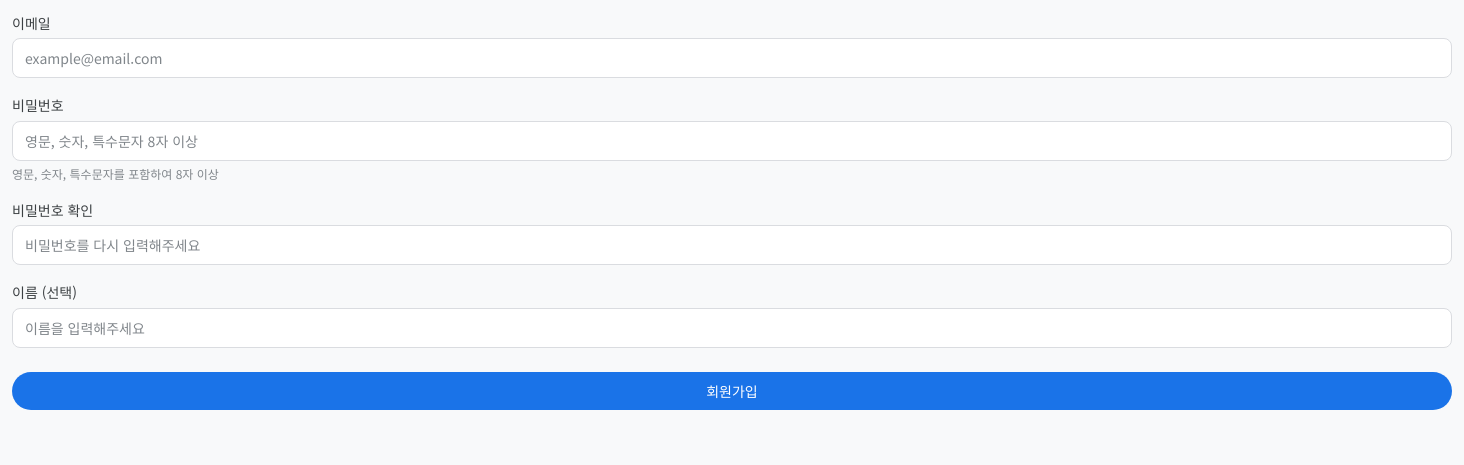
Test: RegisterForm › 중복 이메일 에러 시 폼 에러 메시지가 표시된다
In the field labelled "이메일": (732, 58) 12,38 -> 1452,78, type "dup@test.com"
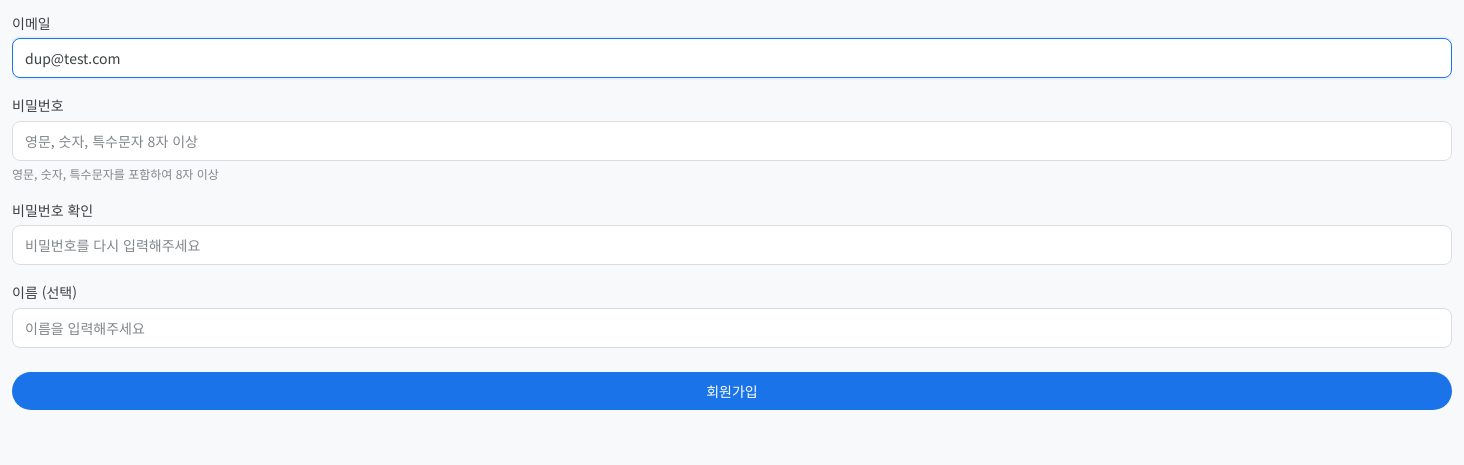
In the password field labelled "비밀번호": (732, 141) 12,121 -> 1452,161, type "Password1!"
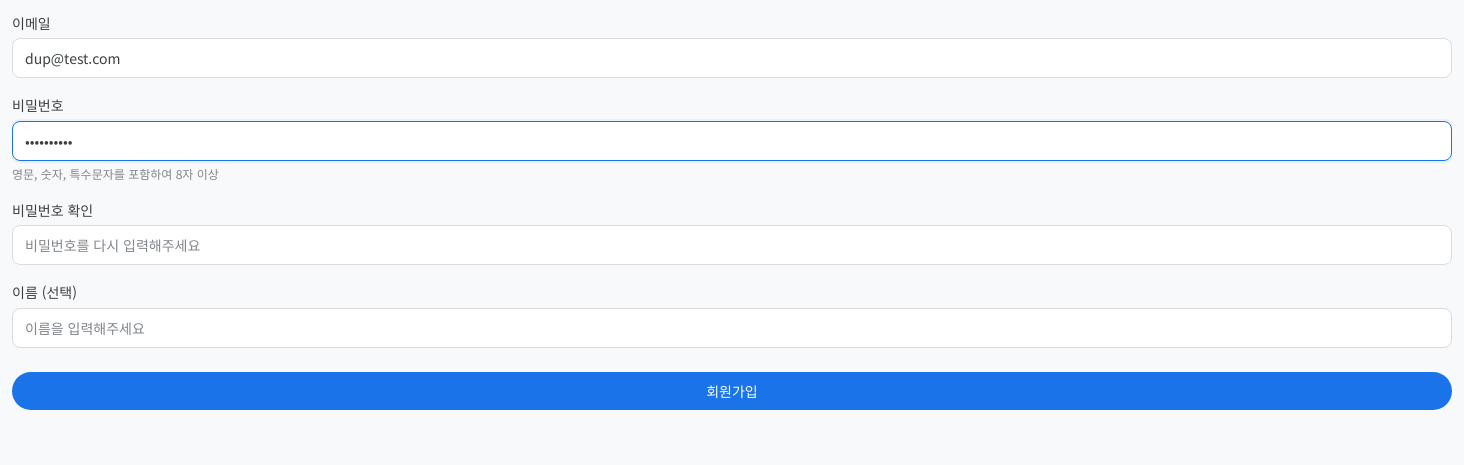
In the password field labelled "비밀번호 확인": (732, 245) 12,225 -> 1452,265, type "Password1!"
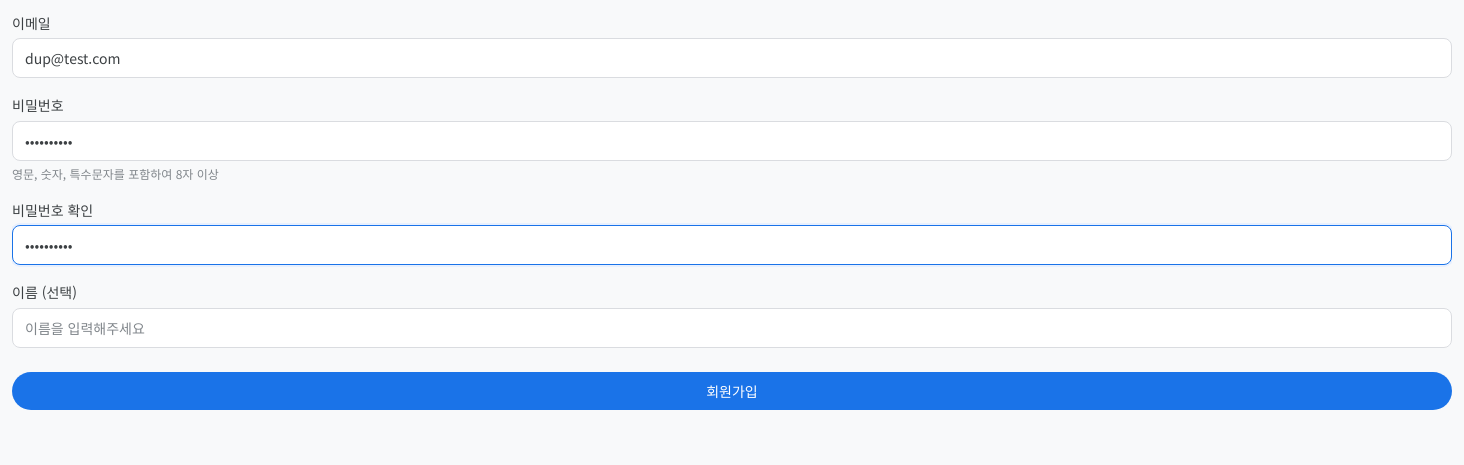
Click the button "회원가입": (732, 391) 12,372 -> 1452,410
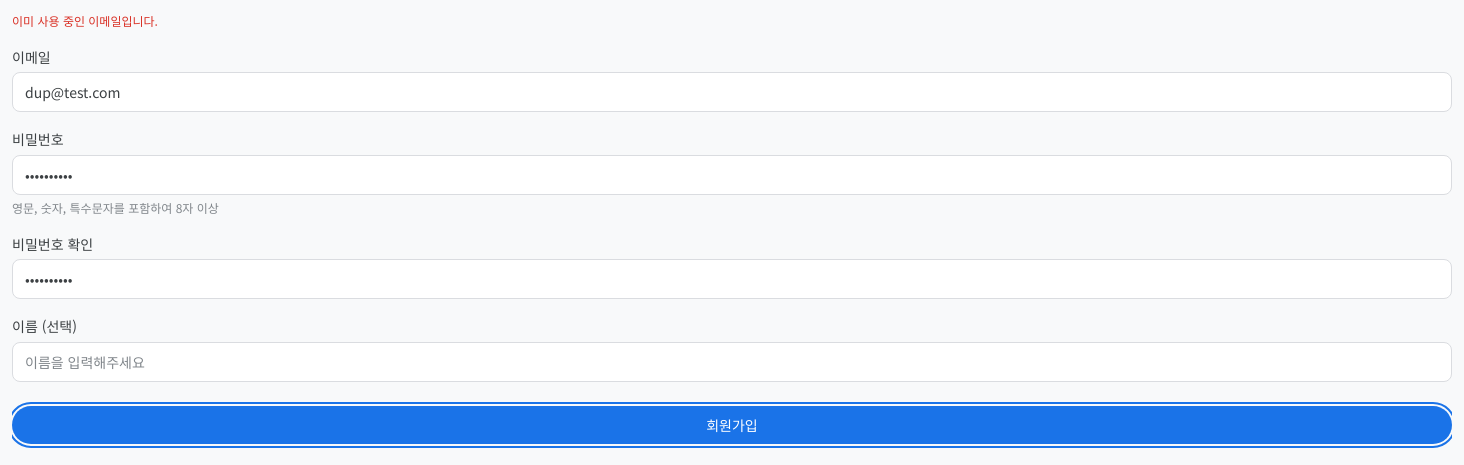
expect the message reads "이미 사용 중인 이메일입니다.": met, box 12,12 -> 158,29
